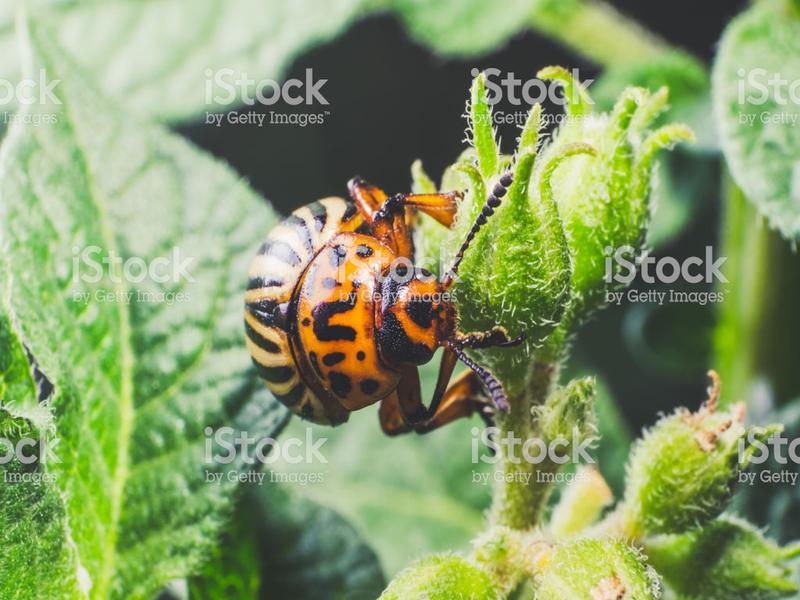hrosc: (234, 164, 508, 447)
